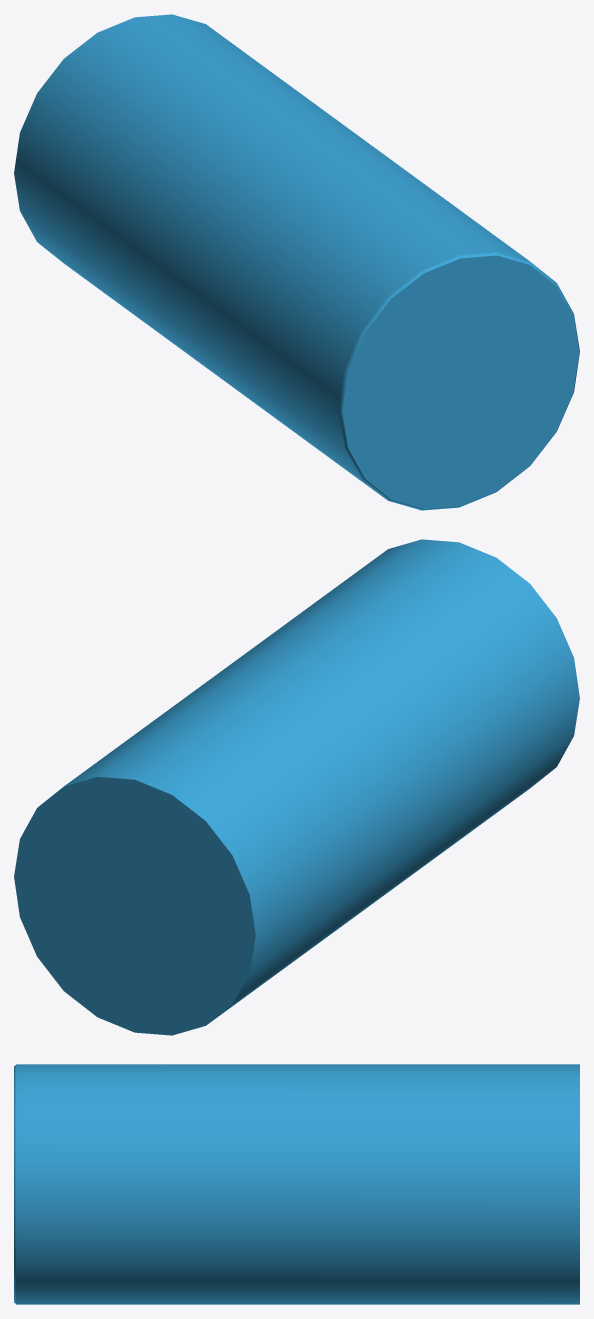
The model's file is Gear_Base_Diam_1.fbx.
The picture shows the model from 3 angles, top to bottom: view 1: azimuth 30°, elevation 25°; view 2: azimuth 150°, elevation 25°; view 3: azimuth 270°, elevation 25°; orthographic projection. The views are drawn at different scales.
Visible parts, largest first — view 1: Gear_Base_Diam_1; view 2: Gear_Base_Diam_1; view 3: Gear_Base_Diam_1.
Part boxes in pixels (x1,y1,x2,y2): Gear_Base_Diam_1: [14, 14, 579, 510]; Gear_Base_Diam_1: [14, 539, 579, 1035]; Gear_Base_Diam_1: [14, 1064, 579, 1304].
Bounding box in the file's own units: 2.84 × 2.84 × 6.63.
